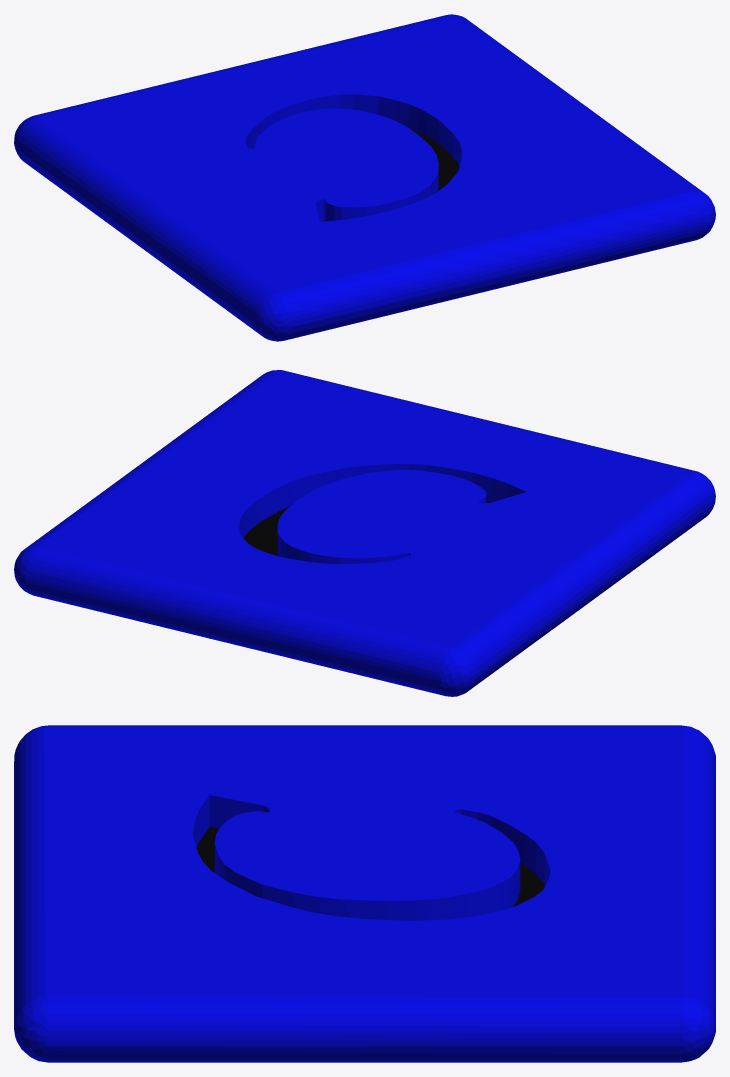
The model's file is tile-C.glb.
3 renders of one model, top to bottom at view 1: azimuth 30°, elevation 25°; view 2: azimuth 150°, elevation 25°; view 3: azimuth 270°, elevation 25°, orthographic. The views are drawn at different scales.
Parts seen in each view (by area): view 1: tile-puzzle-C v1; view 2: tile-puzzle-C v1; view 3: tile-puzzle-C v1.
Part boxes in pixels (x1,y1,x2,y2): tile-puzzle-C v1: (14, 14, 715, 341); tile-puzzle-C v1: (14, 370, 715, 696); tile-puzzle-C v1: (14, 725, 715, 1062).
Bounding box in the file's own units: 39.99 × 3.98 × 39.99.
